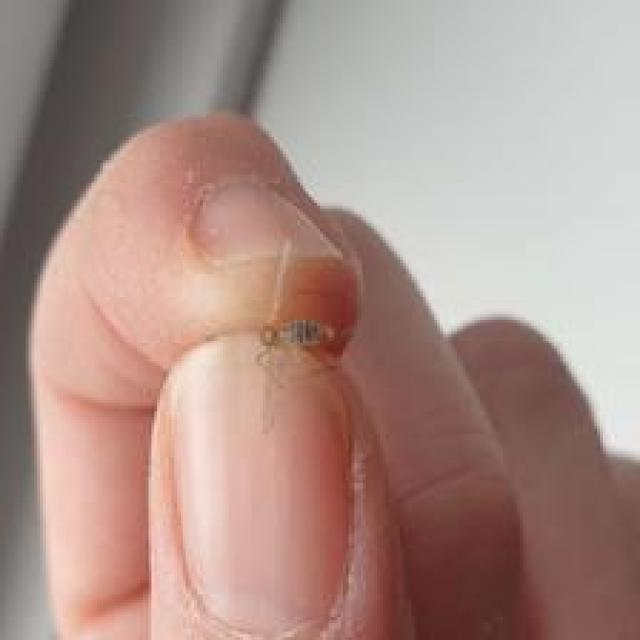Culex: (146, 234, 426, 640)
